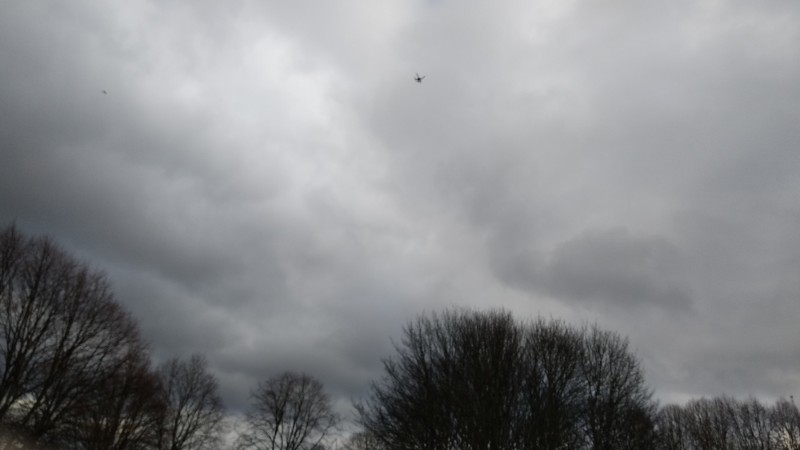drone: (411, 72, 428, 84)
